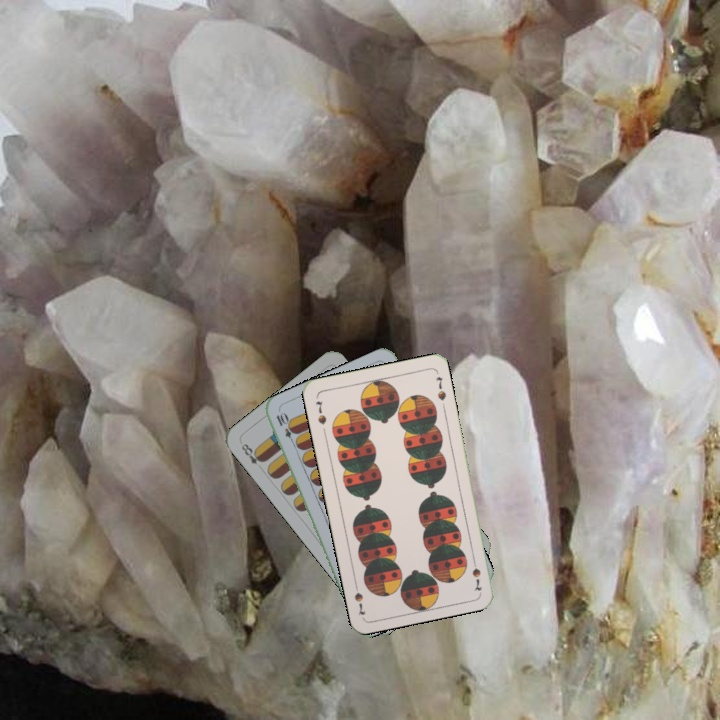E10: (272, 409, 299, 448)
E8: (237, 439, 267, 467)
S7: (468, 553, 484, 593), (312, 397, 329, 427)
